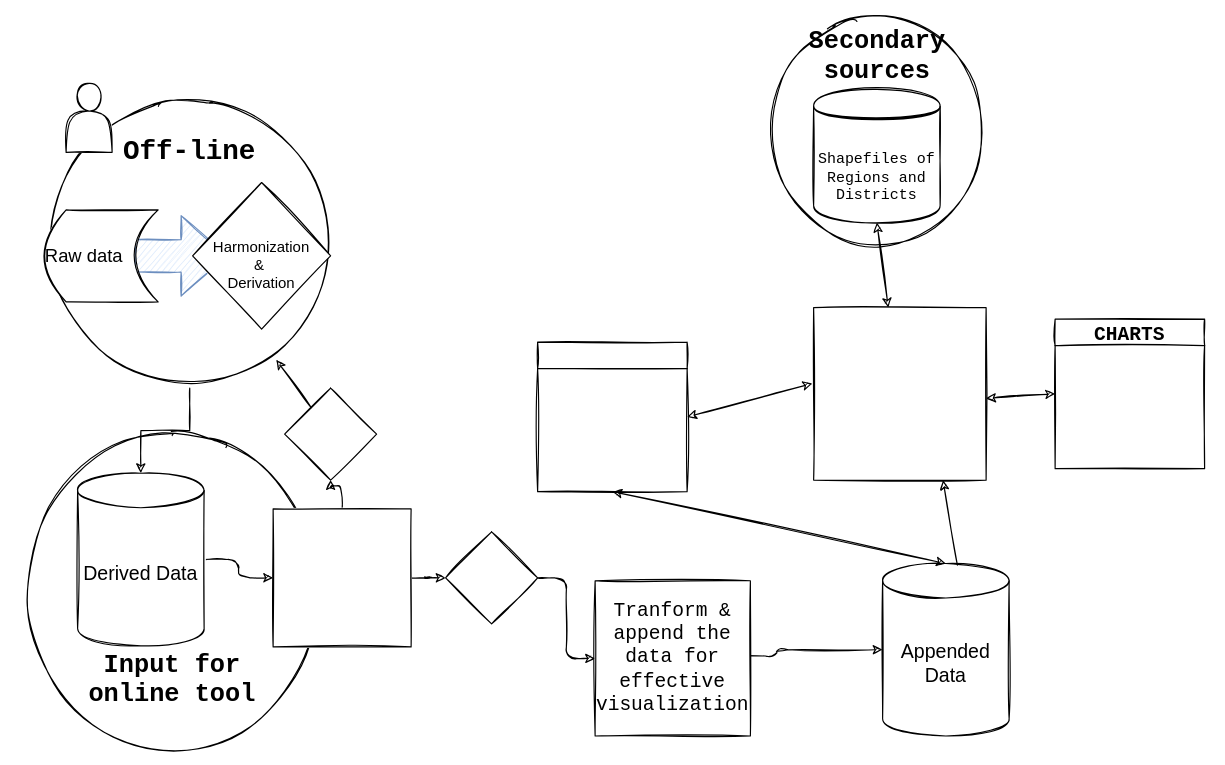
The diagram is 1225 pixels wide and 765 high, and some of its shapes have lost their labels. The centre of each missing label's shape, as x and y in pixels:
Are names and format consistent?: the point at 341,577
MAPS: the point at 611,416
No: the point at 330,433
Scripts to react to user inputs and events: the point at 899,393
Yes: the point at 491,577
